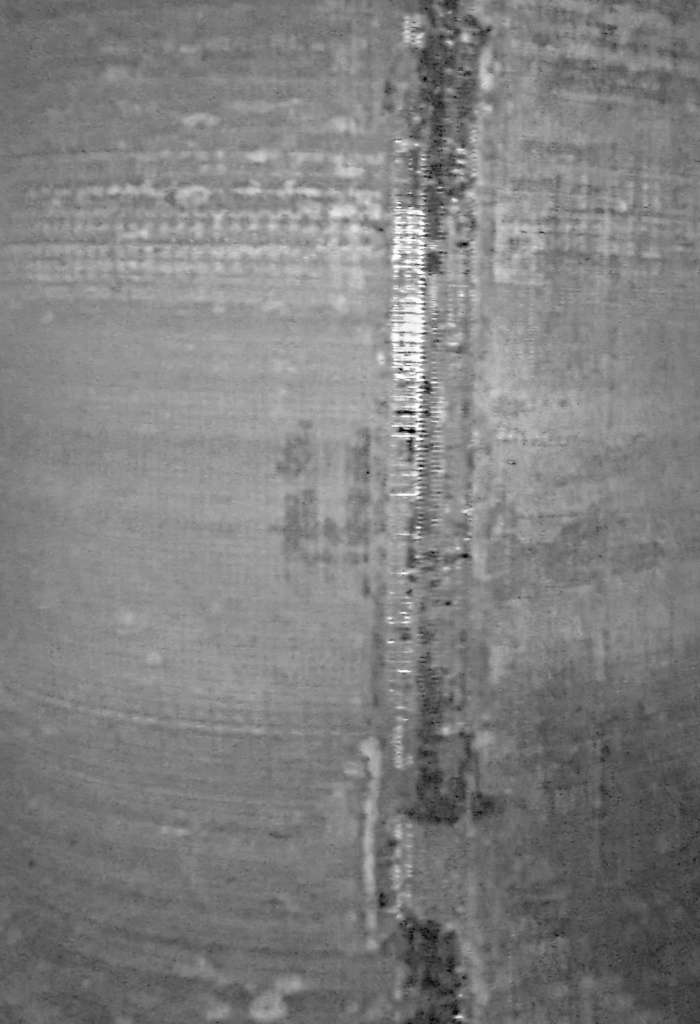splice: (376, 1, 489, 1024)
